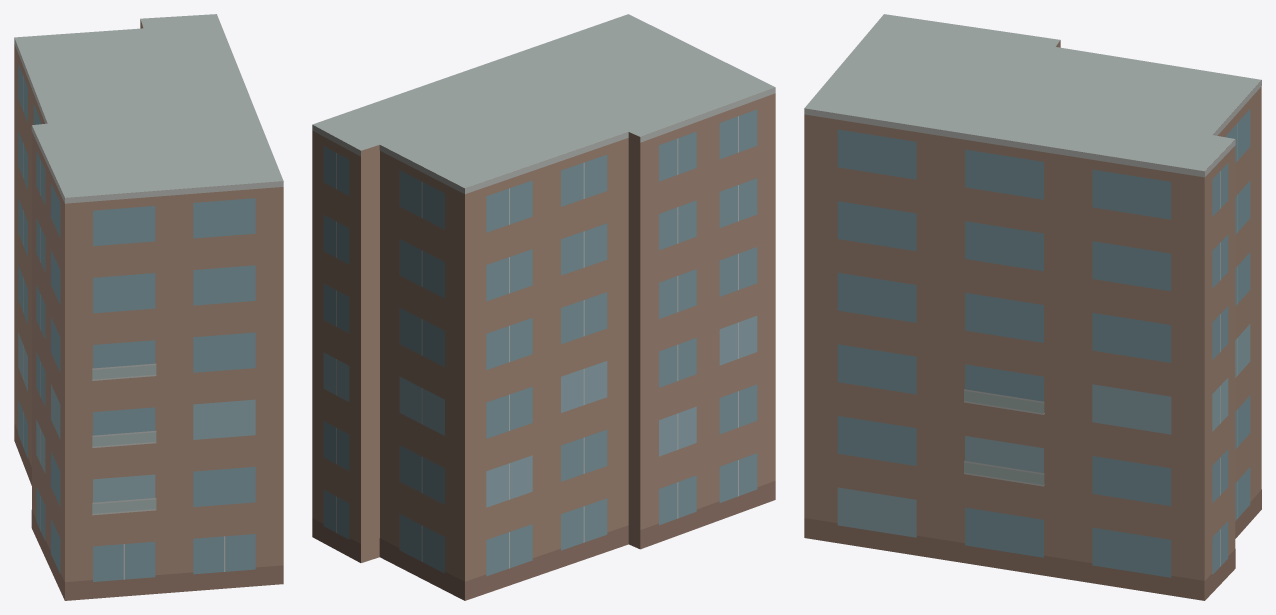
File: survey-upis-32852641.glb
3 views of the same model, side by side, from view 1: azimuth 30°, elevation 25°; view 2: azimuth 150°, elevation 25°; view 3: azimuth 270°, elevation 25° (orthographic). The views are drawn at different scales.
Visible parts, largest first — view 1: survey-upis-32852641.tmp; view 2: survey-upis-32852641.tmp; view 3: survey-upis-32852641.tmp.
Boxes of the visible parts, <box> form: survey-upis-32852641.tmp: <box>14,14,283,600</box>; survey-upis-32852641.tmp: <box>312,14,775,600</box>; survey-upis-32852641.tmp: <box>804,14,1261,600</box>.
Bounding box in the file's own units: 13.44 × 17.1 × 16.51.
